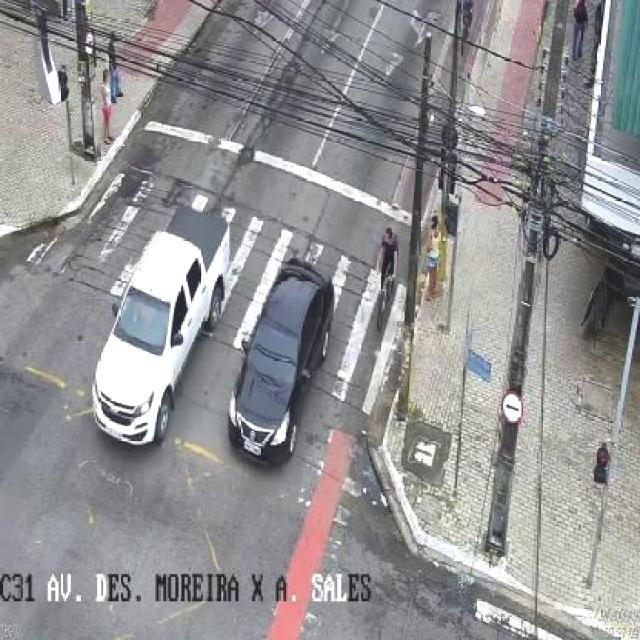Car: (88, 202, 235, 449), (226, 256, 336, 470)
Cycle: (375, 224, 398, 330)
